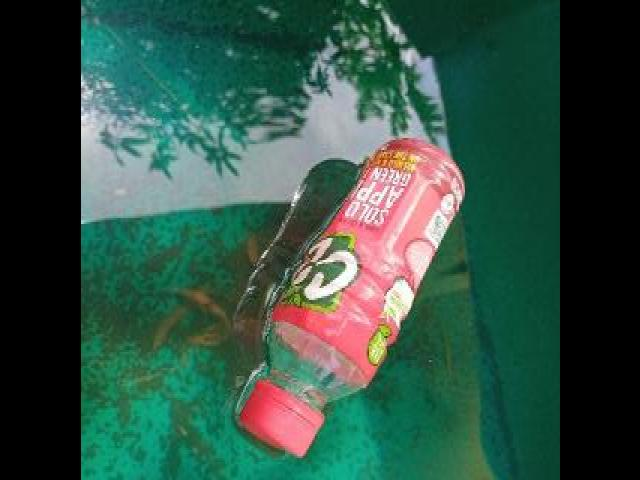Bottle: (232, 133, 468, 467)
